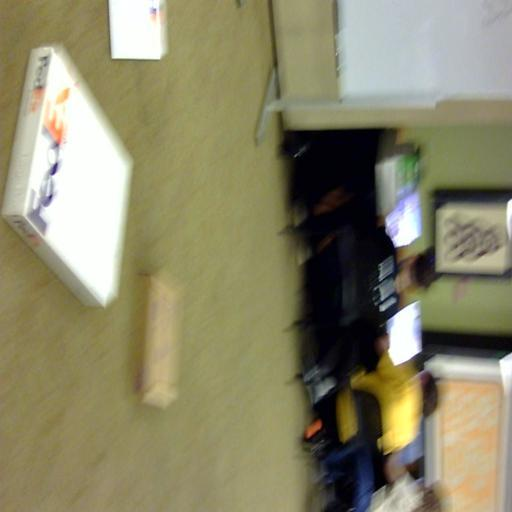Amazon: (4, 62, 129, 295)
